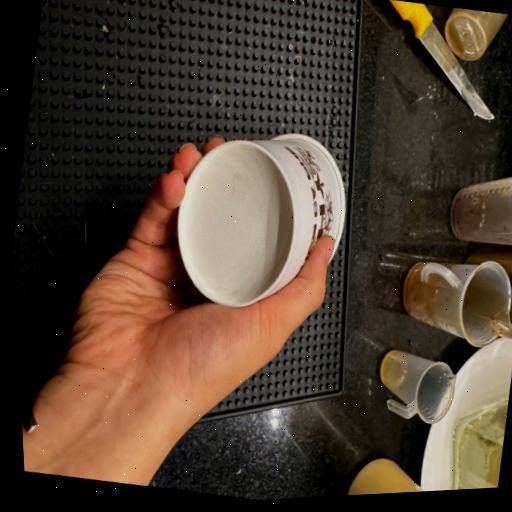Ly_giay: (176, 141, 291, 306)
